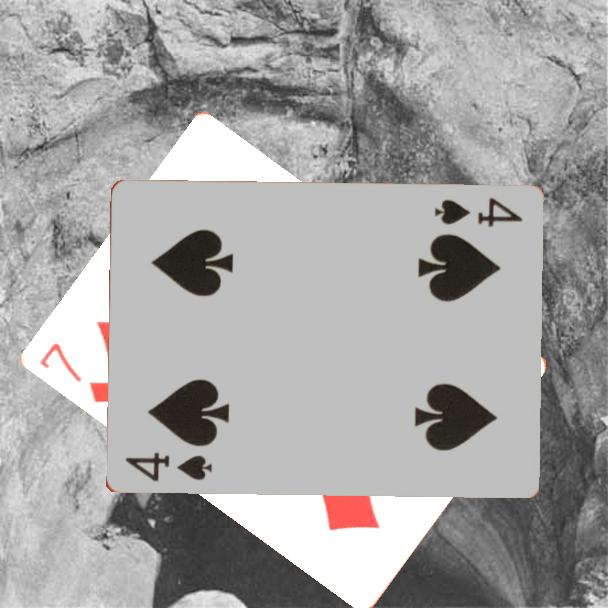d07: (35, 339, 118, 406)
s04: (430, 195, 525, 231), (122, 449, 215, 485)
